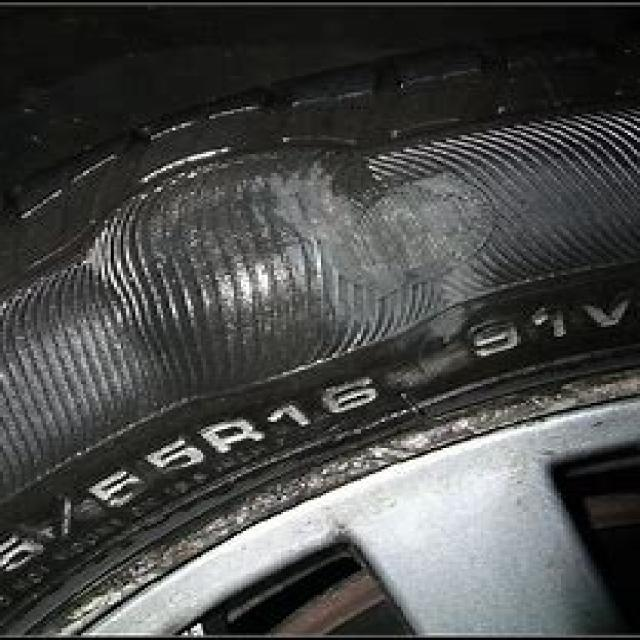Bulge: (68, 119, 445, 430)
